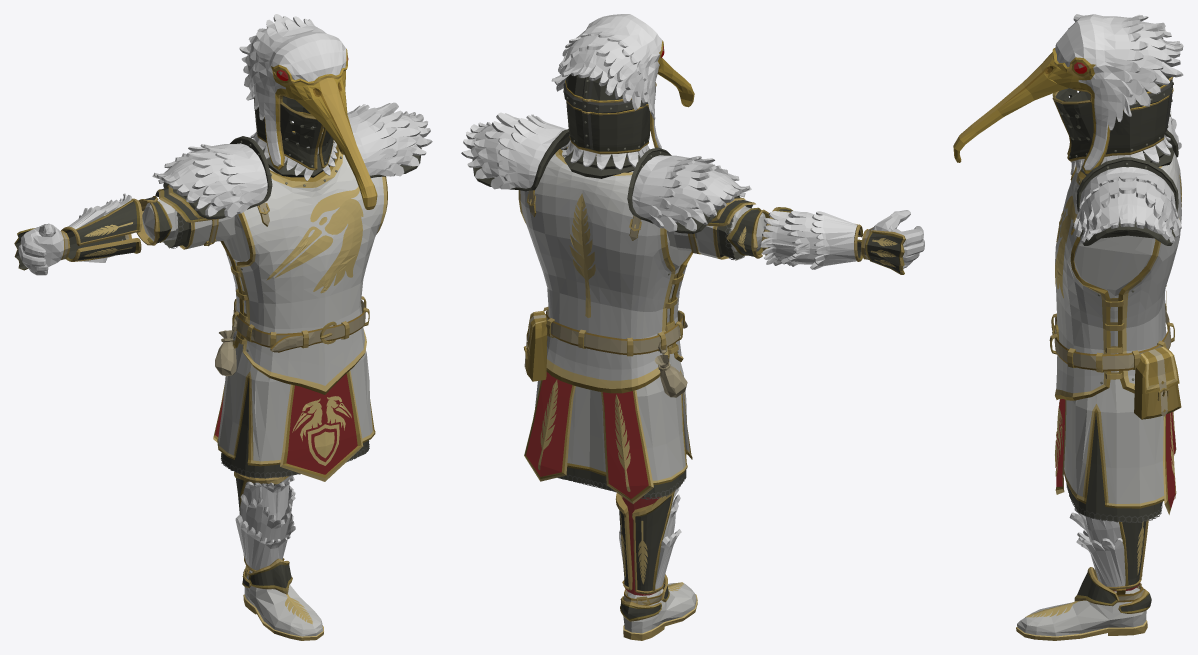
File: pelicanWarrior.glb
The picture shows the model from 3 angles, left to right: view 1: azimuth 30°, elevation 25°; view 2: azimuth 150°, elevation 25°; view 3: azimuth 270°, elevation 25°; orthographic projection. The views are drawn at different scales.
Visible parts, largest first — view 1: pelicanWarriorBody, pelicanWarriorHelmet, pelicanWarriorLowerLeg, pelicanWarriorFoot, pelicanWarriorWristGuard, pelicanWarriorUpperArm, pelicanWarriorBelt, pelicanWarriorGlove; view 2: pelicanWarriorBody, pelicanWarriorHelmet, pelicanWarriorWristGuard, pelicanWarriorLowerLeg, pelicanWarriorBelt, pelicanWarriorUpperArm, pelicanWarriorFoot, pelicanWarriorGlove; view 3: pelicanWarriorBody, pelicanWarriorHelmet, pelicanWarriorFoot, pelicanWarriorBelt, pelicanWarriorLowerLeg.
Part boxes in pixels (bbox=[...]): pelicanWarriorBody: bbox=[152, 102, 432, 481]; pelicanWarriorHelmet: bbox=[239, 14, 377, 209]; pelicanWarriorLowerLeg: bbox=[234, 471, 295, 571]; pelicanWarriorFoot: bbox=[242, 558, 323, 640]; pelicanWarriorWristGuard: bbox=[61, 193, 142, 262]; pelicanWarriorUpperArm: bbox=[137, 184, 235, 249]; pelicanWarriorBelt: bbox=[215, 296, 369, 376]; pelicanWarriorGlove: bbox=[14, 223, 70, 275]; pelicanWarriorBody: bbox=[461, 112, 751, 503]; pelicanWarriorHelmet: bbox=[551, 14, 694, 170]; pelicanWarriorWristGuard: bbox=[760, 207, 863, 269]; pelicanWarriorLowerLeg: bbox=[615, 488, 681, 595]; pelicanWarriorBelt: bbox=[523, 307, 687, 397]; pelicanWarriorUpperArm: bbox=[667, 196, 769, 260]; pelicanWarriorFoot: bbox=[620, 574, 697, 640]; pelicanWarriorGlove: bbox=[861, 210, 924, 274]; pelicanWarriorBody: bbox=[1055, 110, 1181, 522]; pelicanWarriorHelmet: bbox=[953, 14, 1183, 174]; pelicanWarriorFoot: bbox=[1016, 567, 1151, 640]; pelicanWarriorBelt: bbox=[1049, 303, 1181, 419]; pelicanWarriorLowerLeg: bbox=[1069, 507, 1148, 591].
Size of the model in its own units: 1.52 by 2 by 0.665.
